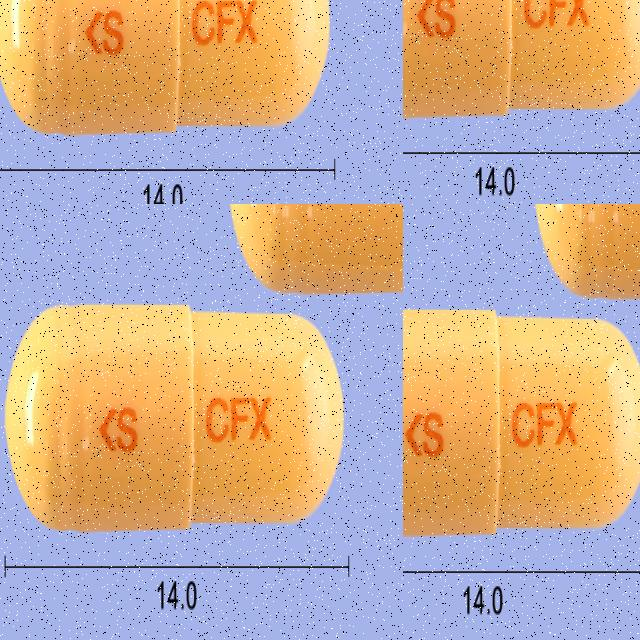Leflocin: (0, 0, 239, 138), (270, 0, 403, 132)
Lenovo: (493, 0, 640, 204)
Monodoxy-M Cap- Sinil: (68, 397, 403, 626)
TaeJoon Levofloxacin Tab: (403, 306, 640, 536)
